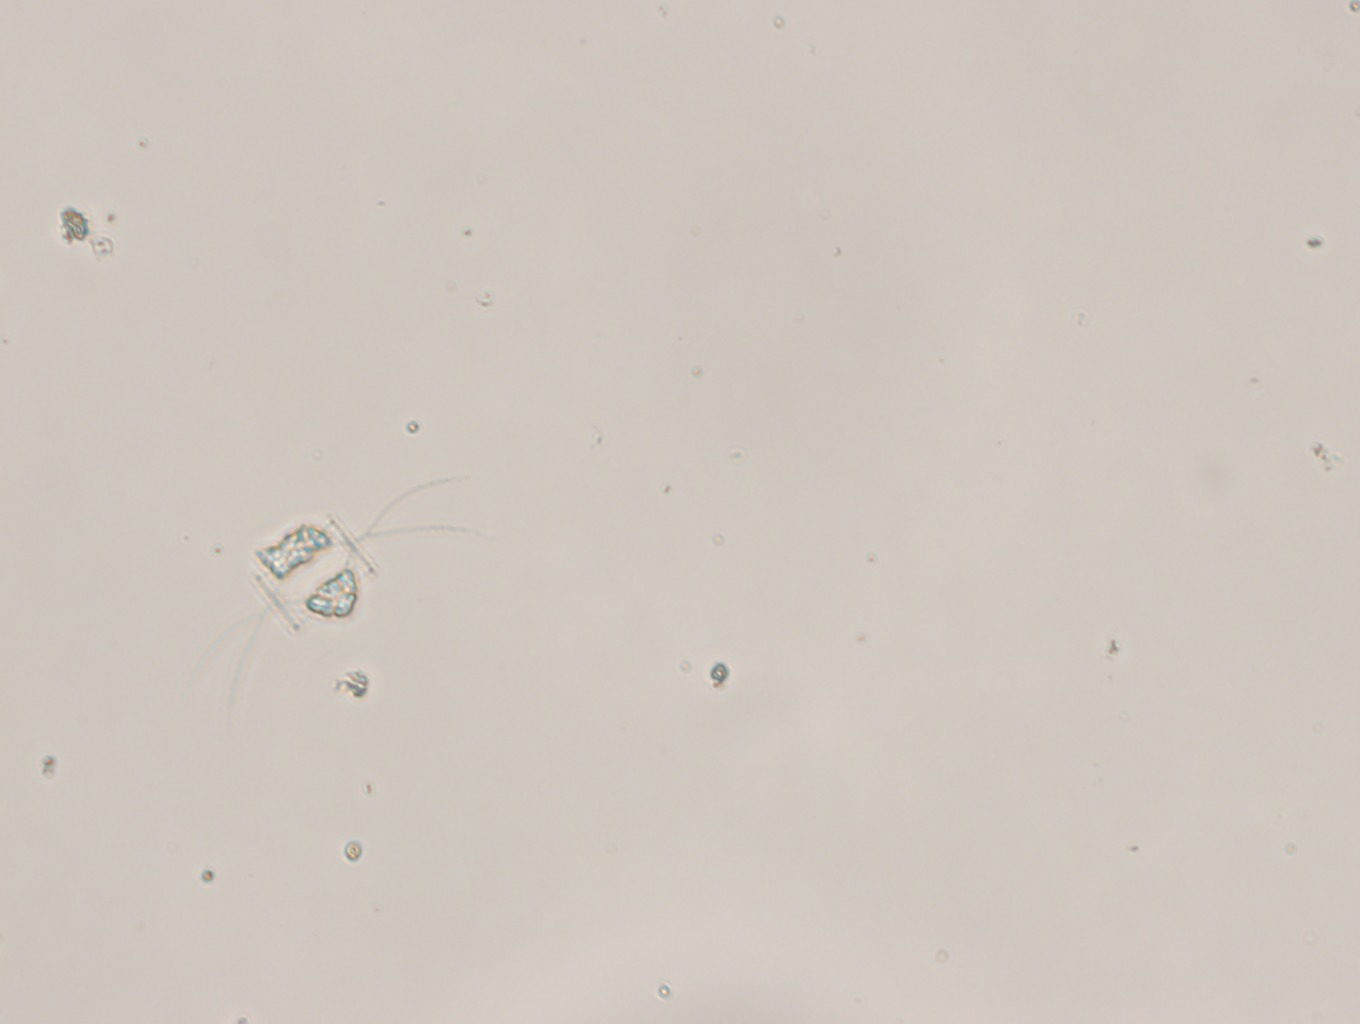chaetoceros: (185, 467, 482, 680)
